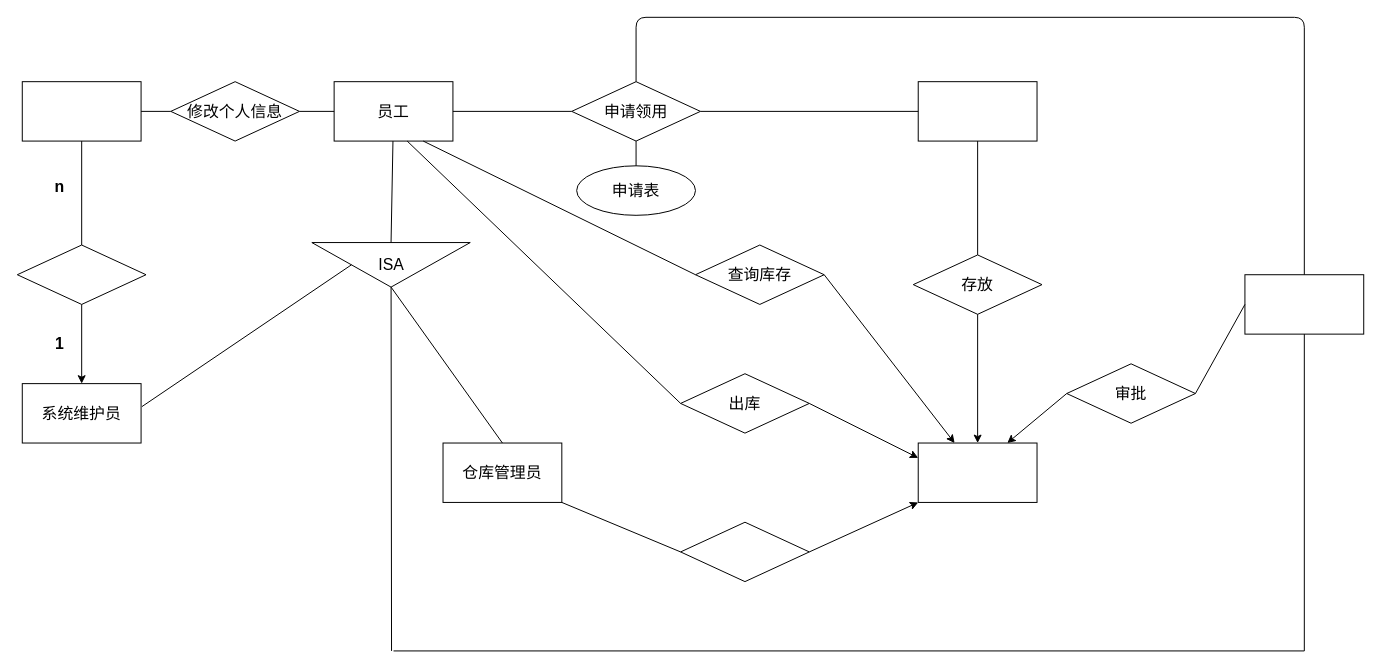
Some shapes in this 1381 by 669 pixel diagram are drawn without their labels. The centre of each missing label's shape, as x and y in pixels:
主任: the point at 1304,304
仓库: the point at 977,472
入库: the point at 744,551
物料: the point at 977,111
用户信息后台: the point at 81,111
管理: the point at 81,274
